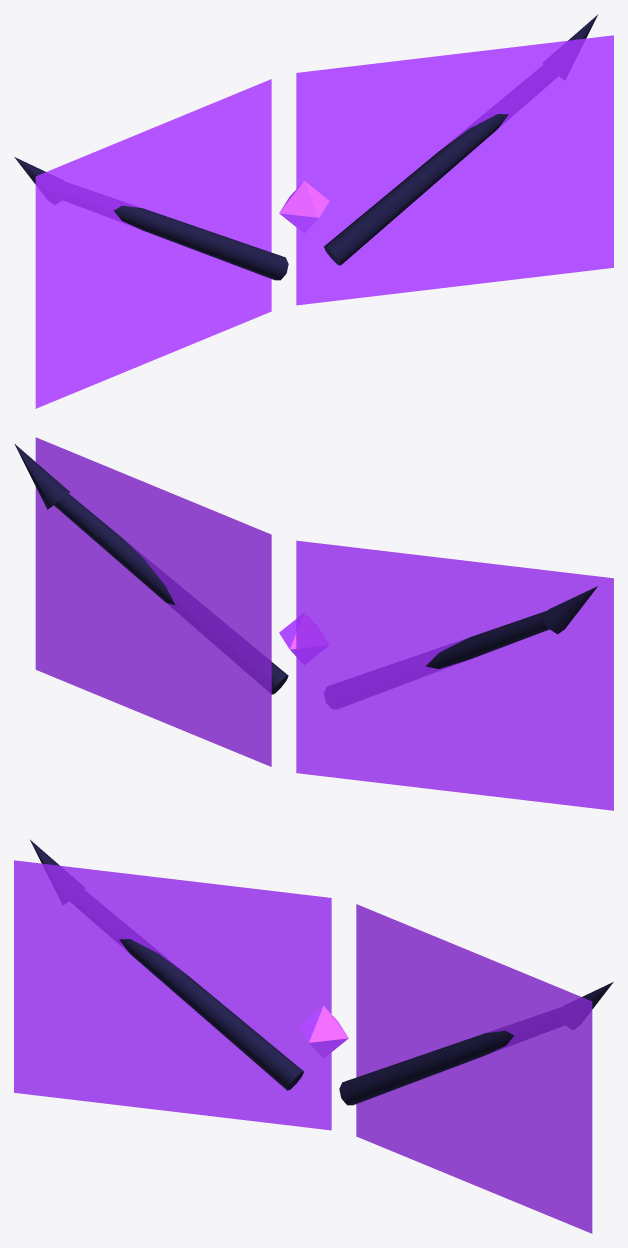
The model's file is wings_darkness_level2.glb.
The picture shows the model from 3 angles, top to bottom: view 1: azimuth 30°, elevation 25°; view 2: azimuth 150°, elevation 25°; view 3: azimuth 330°, elevation 25°; orthographic projection.
Visible parts, largest first — view 1: WINGS_OF_DARKNESS_LEVEL2; view 2: WINGS_OF_DARKNESS_LEVEL2; view 3: WINGS_OF_DARKNESS_LEVEL2.
Part boxes in pixels (x1=…): WINGS_OF_DARKNESS_LEVEL2: x1=14, y1=15, x2=613, y2=408; WINGS_OF_DARKNESS_LEVEL2: x1=14, y1=437, x2=613, y2=810; WINGS_OF_DARKNESS_LEVEL2: x1=14, y1=840, x2=613, y2=1233.
Bounding box in the file's own units: 3.68 × 1.44 × 0.4453.
